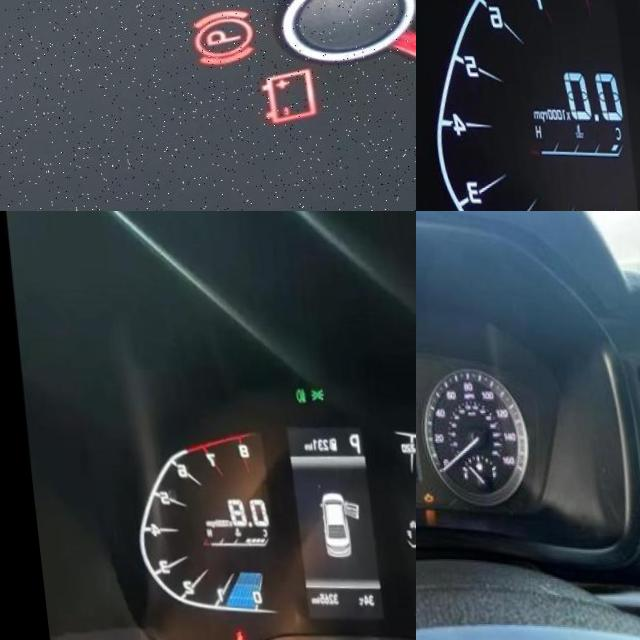Seat Belt: (222, 628, 235, 640)
